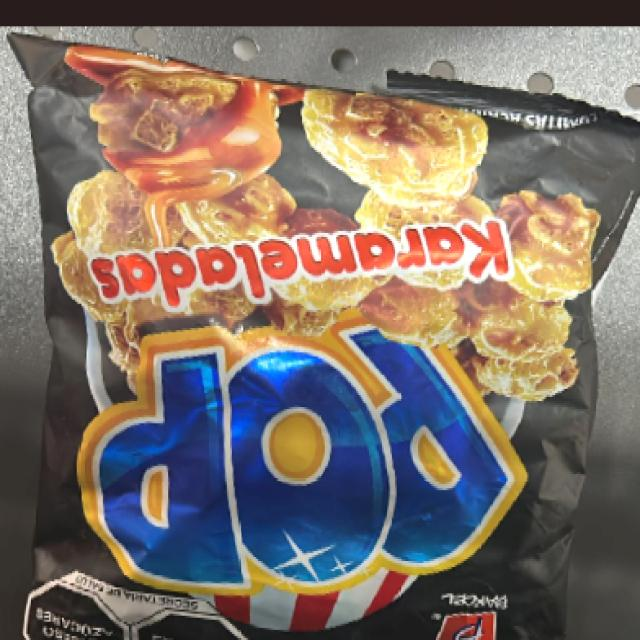popKarameladas: (72, 69, 568, 636)
